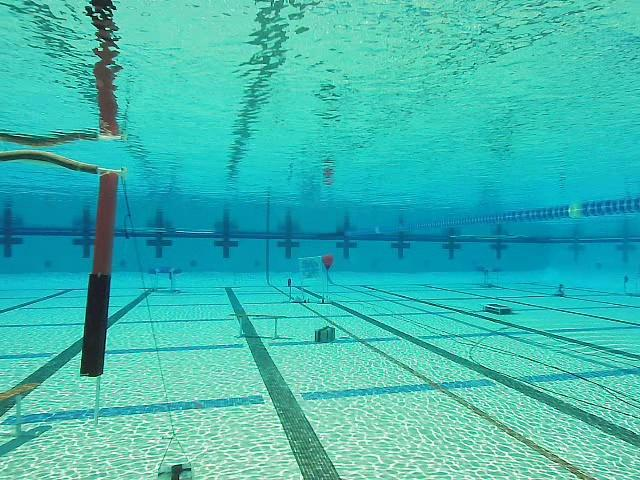buoy: (321, 254, 334, 272)
dropper: (480, 302, 512, 318)
gate_leg_r: (79, 169, 121, 377)
table: (147, 267, 183, 293)
torpedo: (300, 258, 322, 279)
